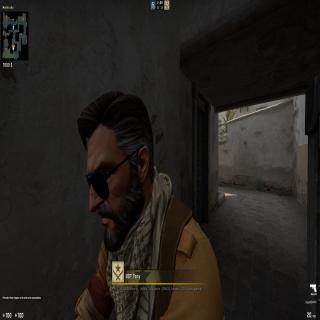T-Head: (74, 84, 157, 258)
